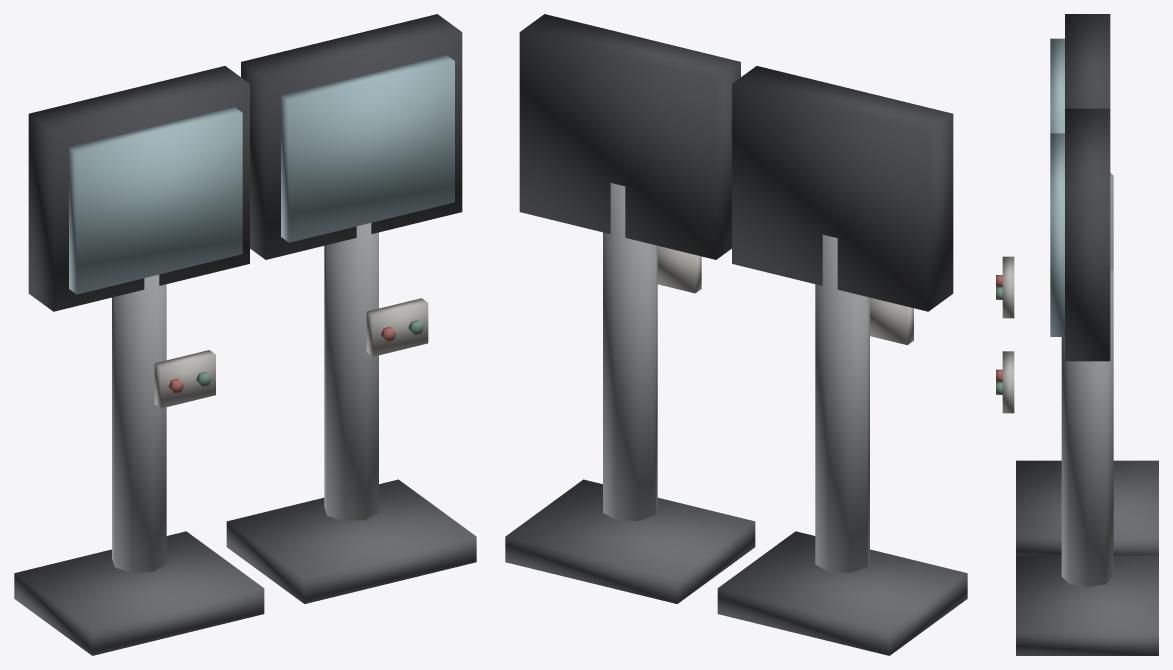
The model's file is pos_terminal__cluster.glb.
3 renders of one model, left to right at view 1: azimuth 30°, elevation 25°; view 2: azimuth 150°, elevation 25°; view 3: azimuth 270°, elevation 25°, orthographic. The views are drawn at different scales.
Visible parts, largest first — view 1: world; view 2: world; view 3: world.
Part boxes in pixels (<box>): world: <box>14,14,476,655</box>; world: <box>505,14,967,655</box>; world: <box>996,14,1158,655</box>.
Bounding box in the file's own units: 0.6656 × 0.79 × 0.251.
